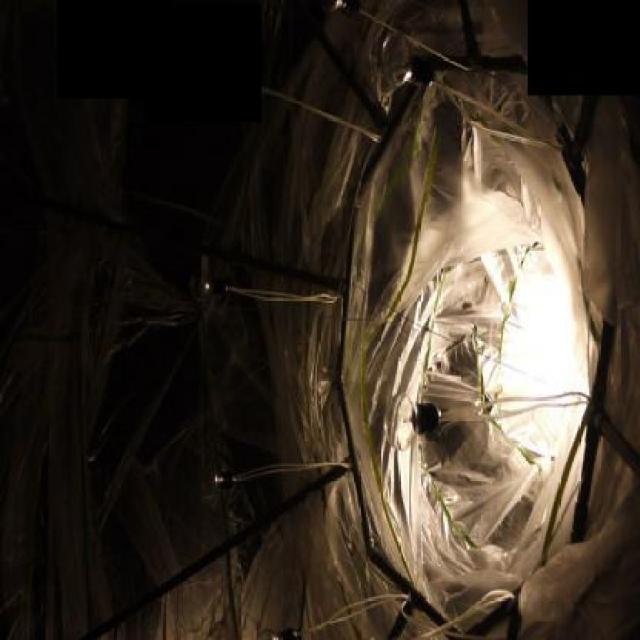plastic bag: (247, 0, 638, 638)
